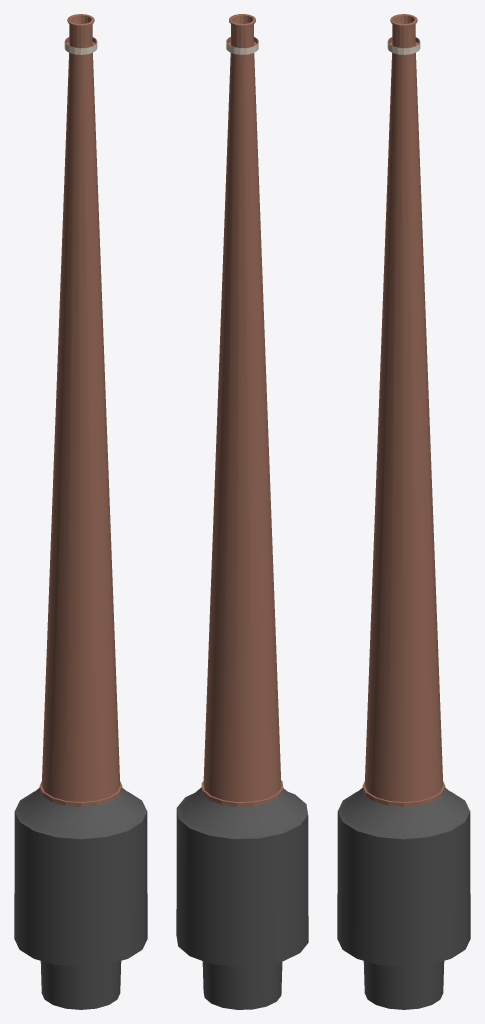
Rendered from chimney_02.fbx.
3 renders of one model, left to right at view 1: azimuth 90°, elevation 25°; view 2: azimuth 150°, elevation 25°; view 3: azimuth 270°, elevation 25°, orthographic.
Parts seen in each view (by area): view 1: chimney_02; view 2: chimney_02; view 3: chimney_02.
Boxes of the visible parts, <box> form: chimney_02: <box>14,14,147,1009</box>; chimney_02: <box>176,14,308,1009</box>; chimney_02: <box>337,14,470,1009</box>.
Size of the model in its own units: 241 by 1943 by 241.
